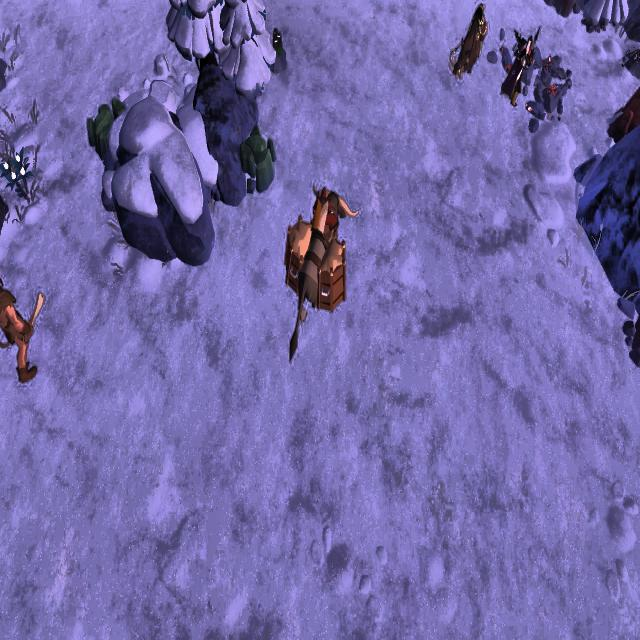enemy_factionKeeper: (0, 270, 40, 388)
fiber_t4: (2, 144, 32, 206)
ore_t3: (269, 25, 282, 54)
rock_t3: (81, 97, 133, 166), (234, 126, 280, 200)
rock_t5: (609, 82, 640, 147)
